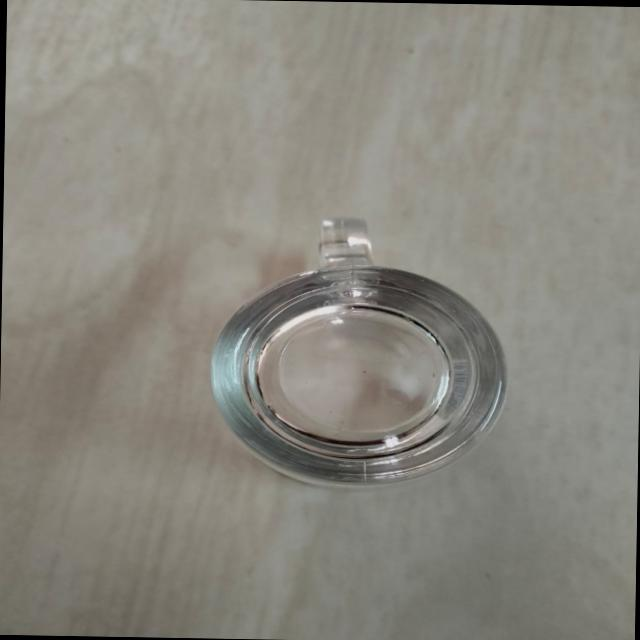glass-VX4N: (208, 214, 512, 493)
